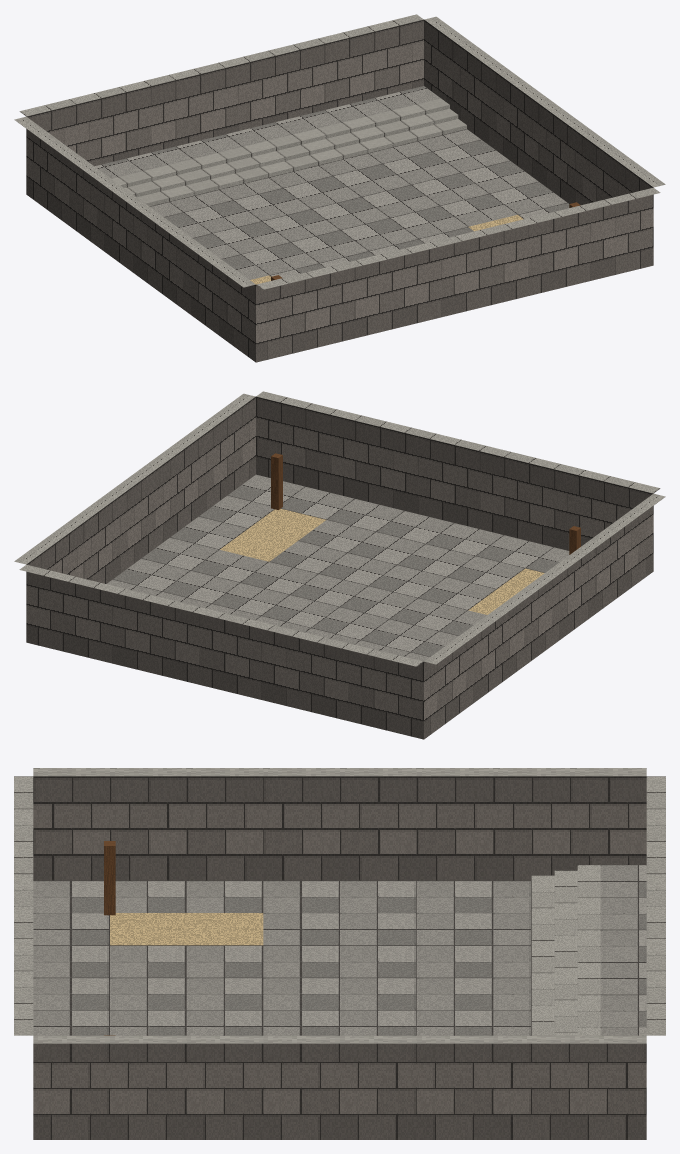
Rendered from courtyard.glb.
The picture shows the model from 3 angles, top to bottom: view 1: azimuth 30°, elevation 25°; view 2: azimuth 150°, elevation 25°; view 3: azimuth 270°, elevation 25°; orthographic projection. The views are drawn at different scales.
Parts seen in each view (by area): view 1: walls, floor, steps, dais; view 2: walls, floor, posts; view 3: walls, floor, steps, dais, posts.
Part boxes in pixels (x1,y1,x2,y2): walls: (14,14,665,362); floor: (150,129,569,284); steps: (112,98,466,206); dais: (95,86,440,178); walls: (14,391,665,739); floor: (107,474,569,661); posts: (271,453,580,554); walls: (14,768,665,1139); floor: (33,880,531,1035); steps: (531,865,600,1035); dais: (600,865,646,1035); posts: (104,841,115,1035).
Size of what is drawn, in the model's own units: 17 by 3 by 17.
5 materials, 5 textured.
